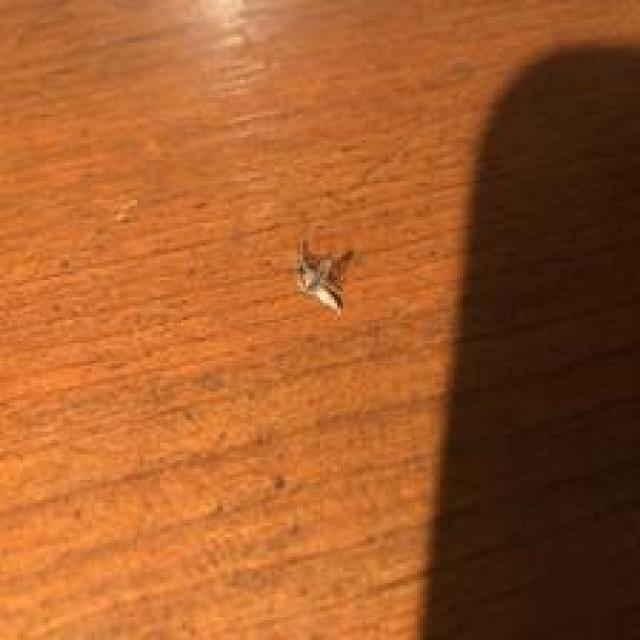Culex: (292, 237, 354, 317)
